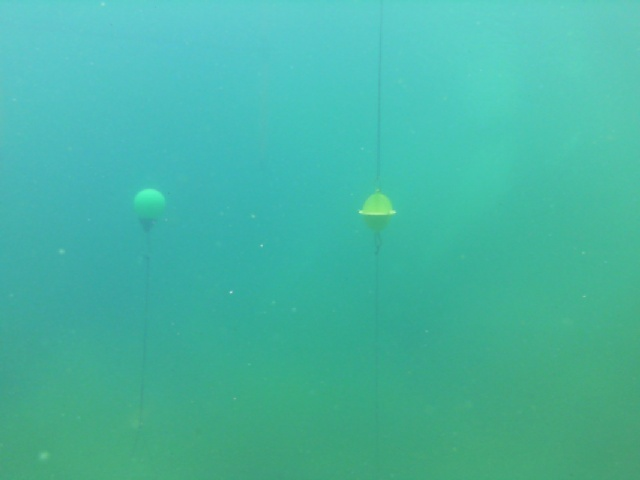buoy_green: (131, 187, 168, 234)
buoy_yellow: (357, 190, 395, 233)
